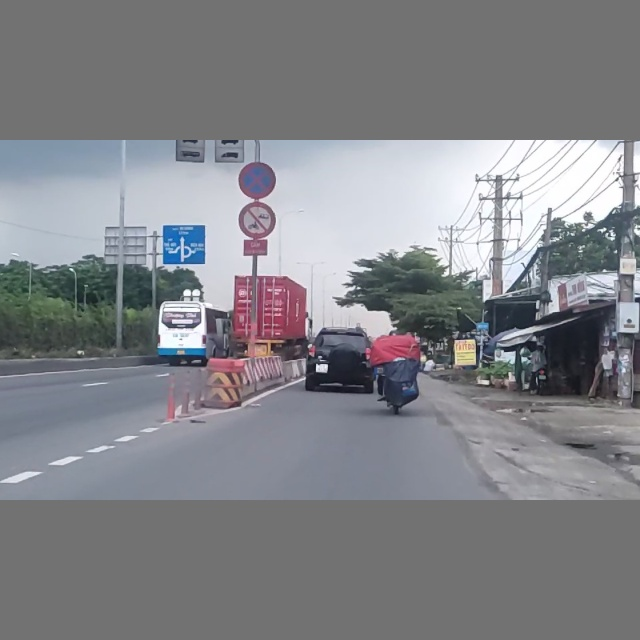P.111: (237, 201, 277, 238)
P.130: (238, 162, 277, 199)
